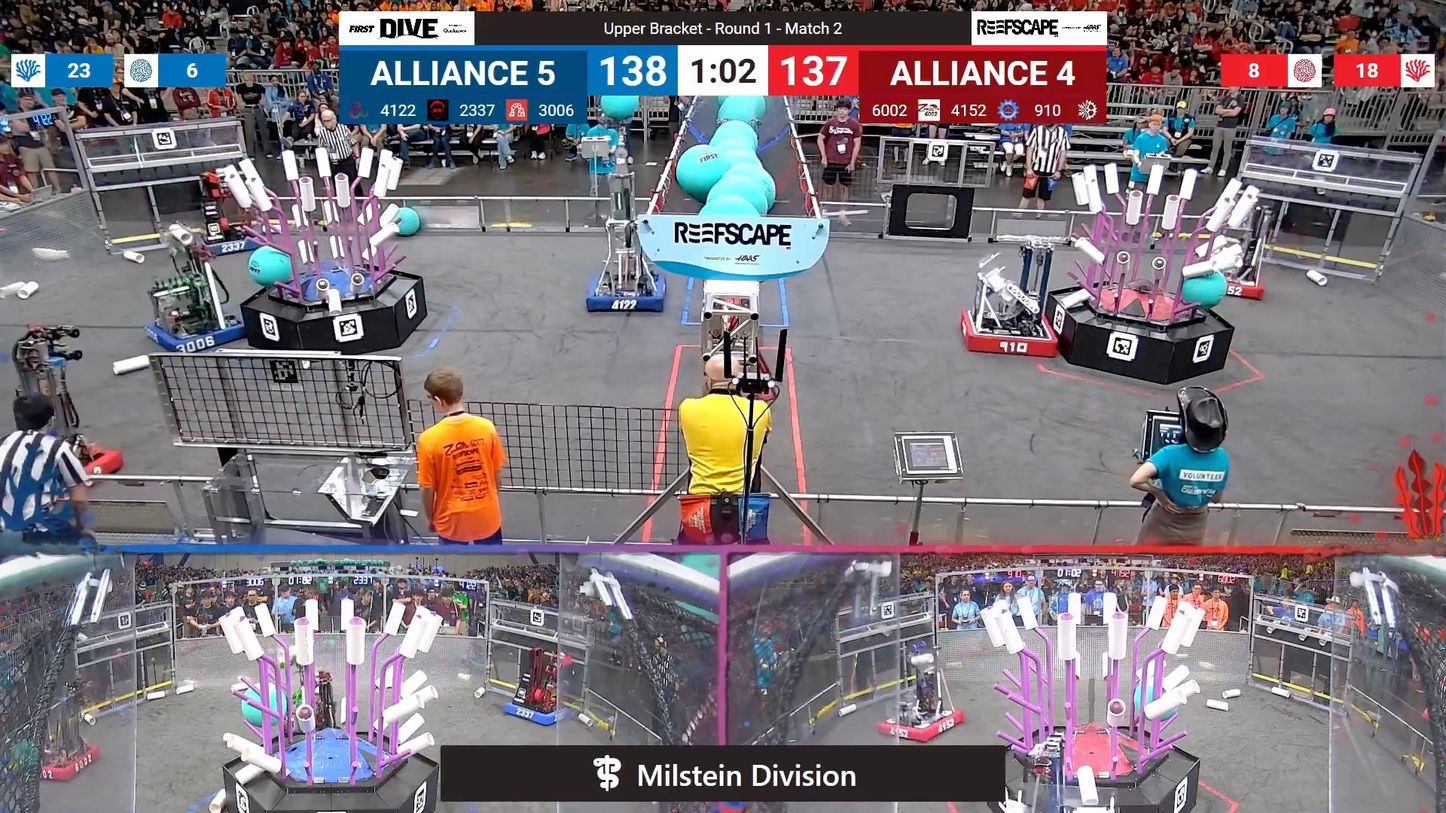bumpers: (5, 430, 122, 489), (956, 303, 1068, 361), (142, 305, 252, 355), (582, 267, 675, 318), (872, 705, 970, 743), (40, 733, 103, 787), (1194, 266, 1271, 302), (496, 695, 574, 729), (186, 236, 270, 259)
